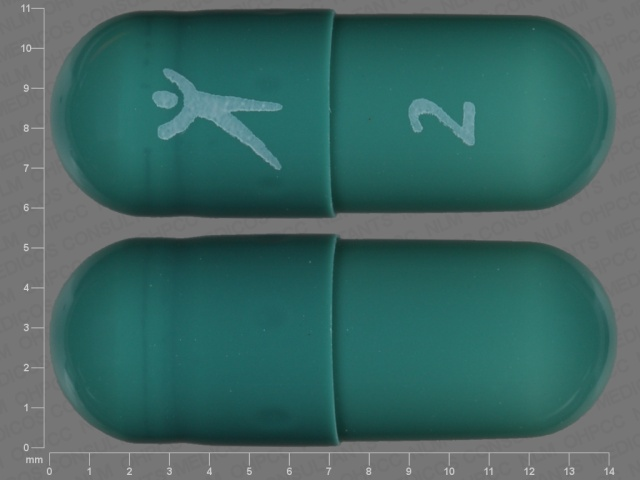2: (404, 92, 480, 150)
capsule: (50, 5, 618, 224), (48, 231, 618, 446)
